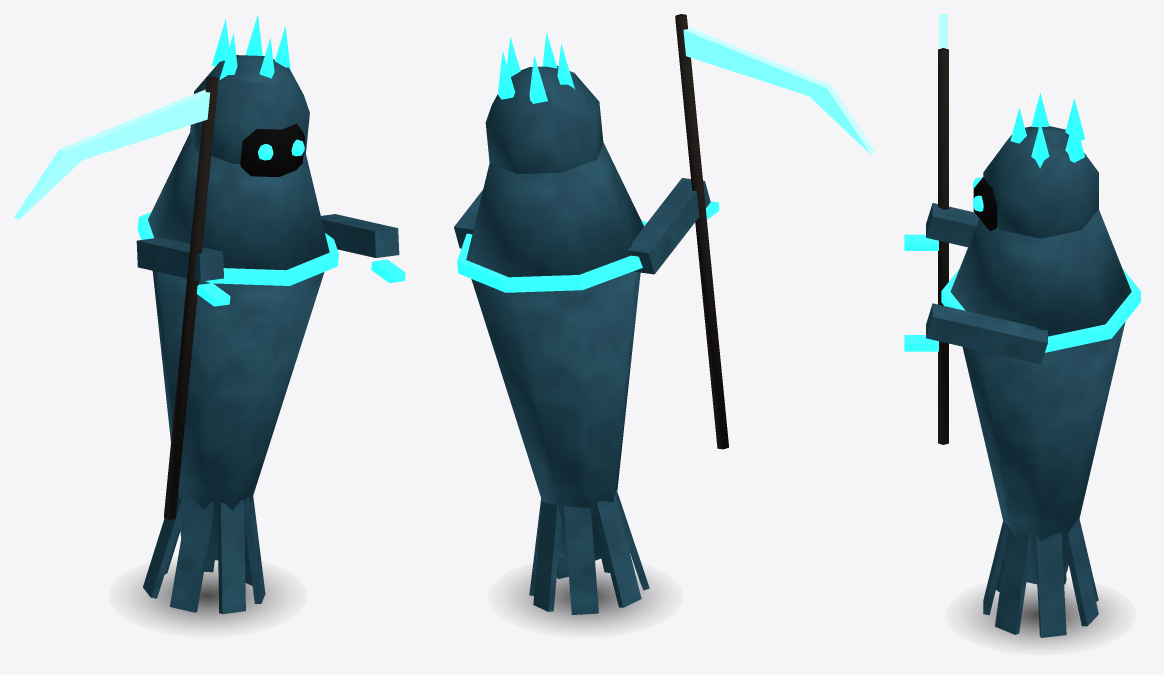
Rendered from wraith.glb.
3 views of the same model, side by side, from view 1: azimuth 30°, elevation 25°; view 2: azimuth 150°, elevation 25°; view 3: azimuth 270°, elevation 25° (orthographic). The views are drawn at different scales.
Visible parts, largest first — view 1: wraith_robe, wraith_trim, wraith_haft, wraith_blade, shadow_shadow, wraith_void; view 2: wraith_robe, wraith_trim, wraith_haft, wraith_blade, shadow_shadow; view 3: wraith_robe, wraith_trim, wraith_haft, shadow_shadow, wraith_void.
Boxes of the visible parts, box(x1,y1,x2,y2) form: wraith_robe: box(136, 55, 399, 614); wraith_trim: box(137, 14, 405, 306); wraith_haft: box(164, 76, 218, 519); wraith_blade: box(14, 89, 210, 219); shadow_shadow: box(134, 565, 281, 626); wraith_void: box(240, 123, 304, 177); wraith_robe: box(454, 66, 710, 614); wraith_trim: box(457, 33, 719, 292); wraith_haft: box(675, 14, 728, 449); wraith_blade: box(683, 27, 875, 154); shadow_shadow: box(513, 567, 657, 627); wraith_robe: box(926, 126, 1131, 637); wraith_trim: box(904, 93, 1140, 352); wraith_haft: box(938, 48, 948, 444); shadow_shadow: box(970, 585, 1111, 644); wraith_void: box(973, 177, 997, 230).
Size of the model in its own units: 1.92 by 2.76 by 1.13.
6 materials, 2 textured.
